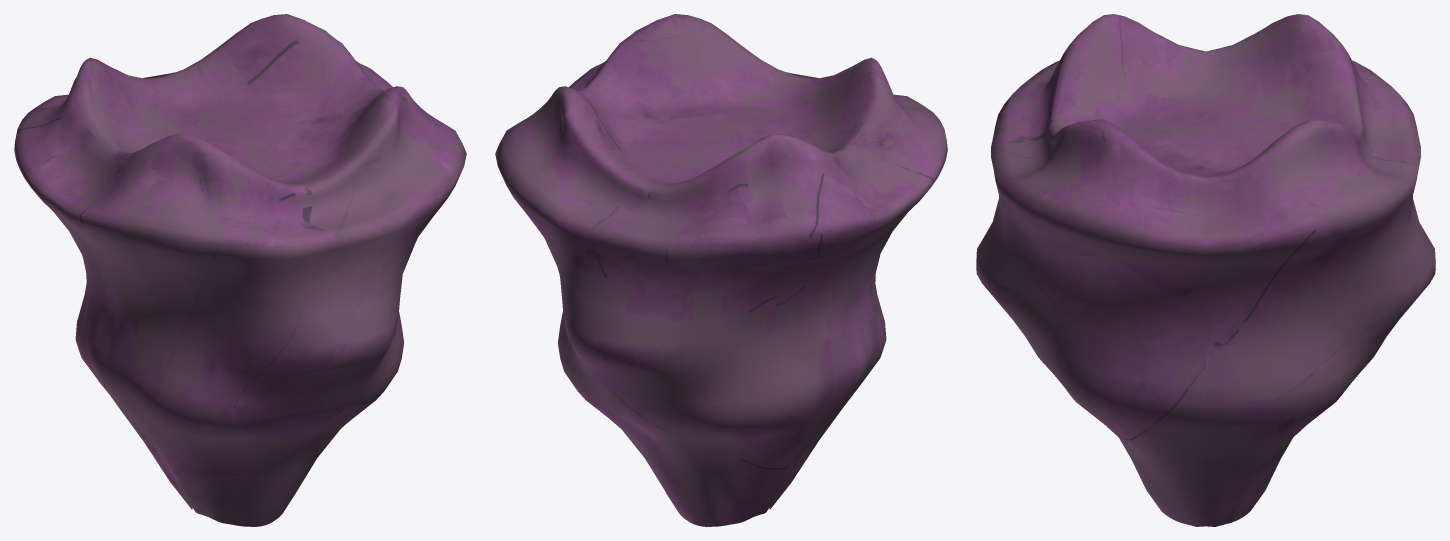
The model's file is low poly segunda parte definitivo2.fbx.
3 views of the same model, side by side, from view 1: azimuth 30°, elevation 25°; view 2: azimuth 150°, elevation 25°; view 3: azimuth 270°, elevation 25° (orthographic).
Parts seen in each view (by area): view 1: ROCA 1; view 2: ROCA 1; view 3: ROCA 1.
Part boxes in pixels (x1,y1,x2,y2): ROCA 1: [14, 14, 466, 526]; ROCA 1: [495, 14, 947, 526]; ROCA 1: [976, 14, 1435, 526].
Size of the model in its own units: 264 by 296 by 280.
